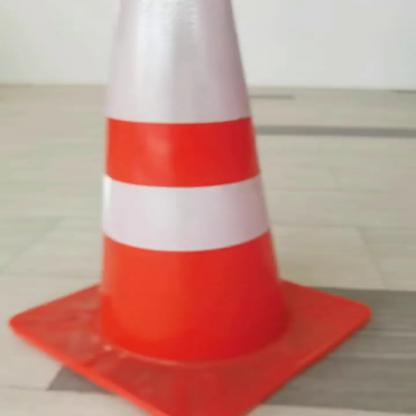cone: (7, 1, 378, 416)
